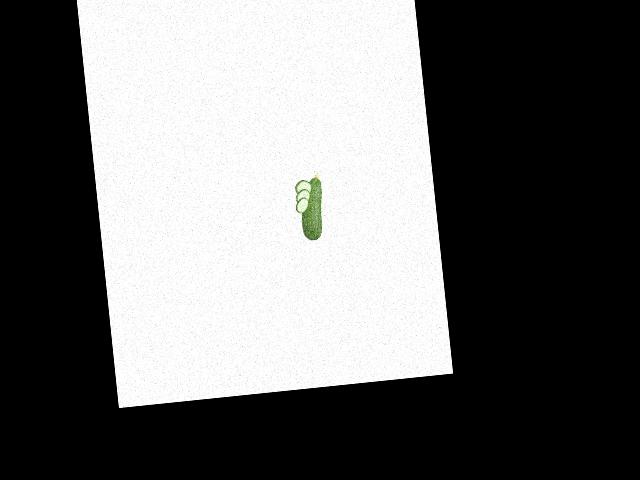cucumber: (296, 173, 326, 242)
